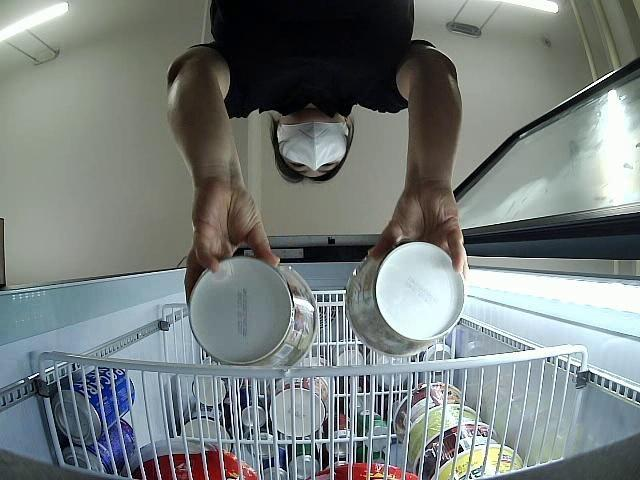03_chapagetti_L: (187, 253, 320, 368), (345, 240, 464, 356)
